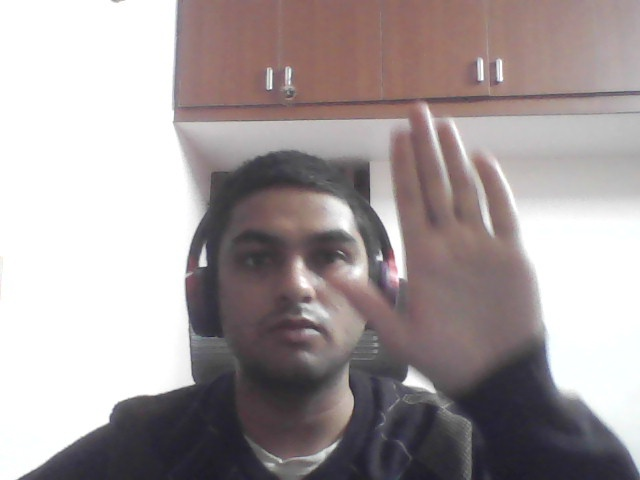Hello: (317, 85, 557, 401)
